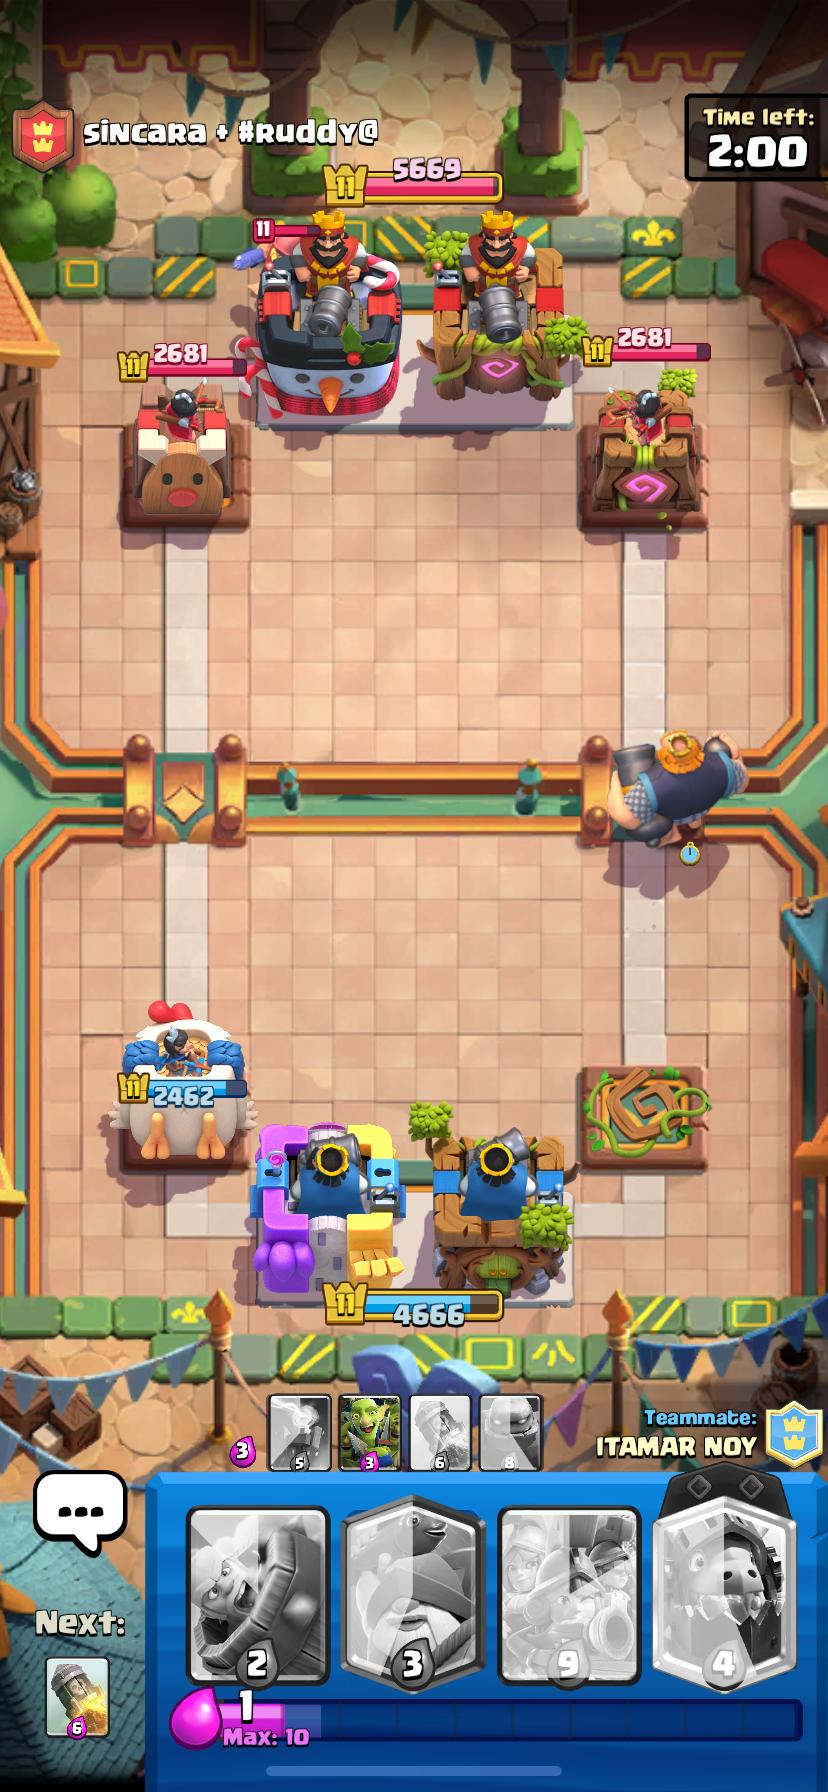EKingTower: (234, 211, 401, 426), (419, 213, 578, 401)
EnemyPrincessTower: (122, 382, 250, 528), (578, 390, 706, 529)
ORoyalG: (608, 731, 746, 847)
OwnKingTower: (250, 1123, 405, 1301), (433, 1128, 572, 1294)
OwnPrincessTower: (110, 1001, 255, 1160)
TowerDown: (580, 1065, 709, 1169)
